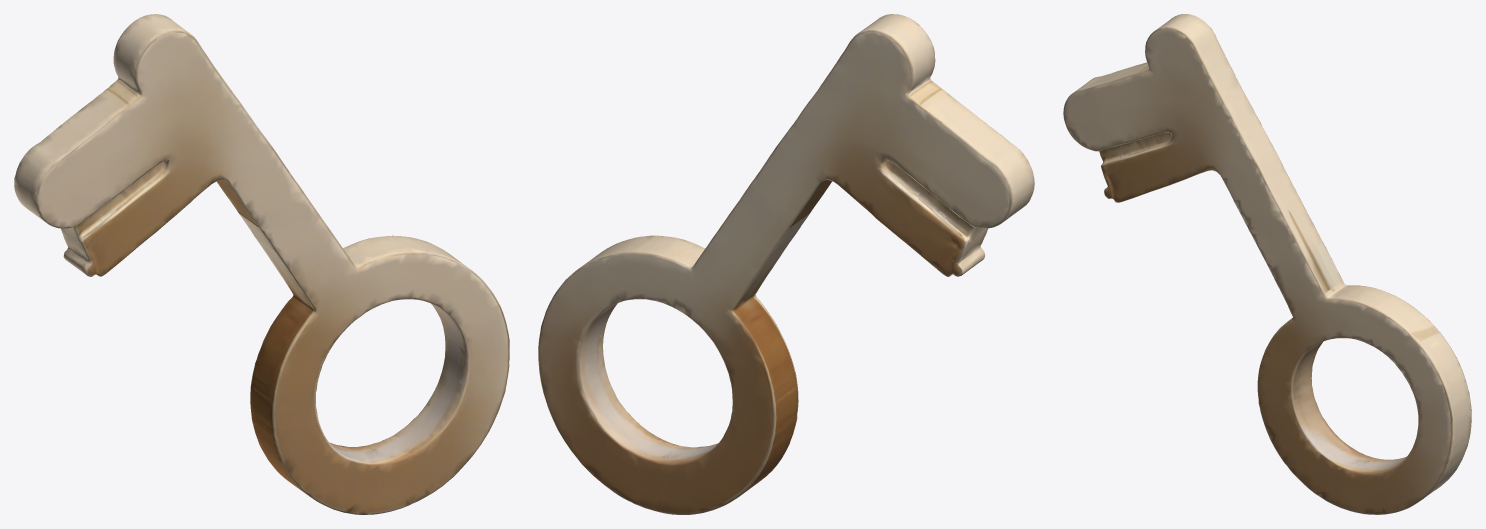
Rendered from Keys.fbx.
3 renders of one model, left to right at view 1: azimuth 30°, elevation 25°; view 2: azimuth 150°, elevation 25°; view 3: azimuth 330°, elevation 25°, orthographic. The views are drawn at different scales.
Parts seen in each view (by area): view 1: Mesh1.0; view 2: Mesh1.0; view 3: Mesh1.0.
Part boxes in pixels (x1,y1,x2,y2): Mesh1.0: (14, 14, 509, 514); Mesh1.0: (538, 14, 1034, 514); Mesh1.0: (1063, 14, 1471, 514).
Bounding box in the file's own units: 186 × 201 × 16.23.
Materials: 1 (1 with a texture image).
